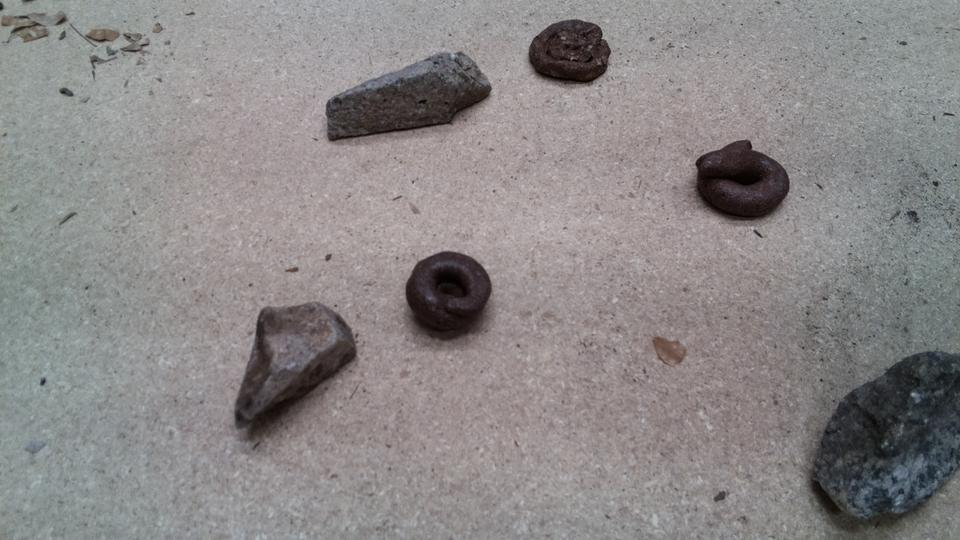poop: (562, 127, 671, 226), (550, 96, 653, 162), (307, 155, 391, 234)
